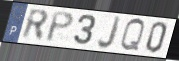0: (143, 20, 168, 55)
3: (73, 14, 99, 47)
J: (96, 15, 123, 51)
P: (44, 10, 75, 44)
Q: (119, 18, 146, 53)
R: (21, 7, 50, 43)
